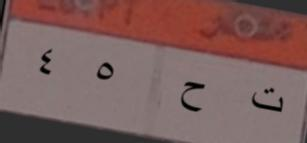4: (38, 43, 55, 84)
5: (93, 62, 118, 90)
7aa: (178, 75, 212, 124)
taa: (247, 76, 288, 121)
